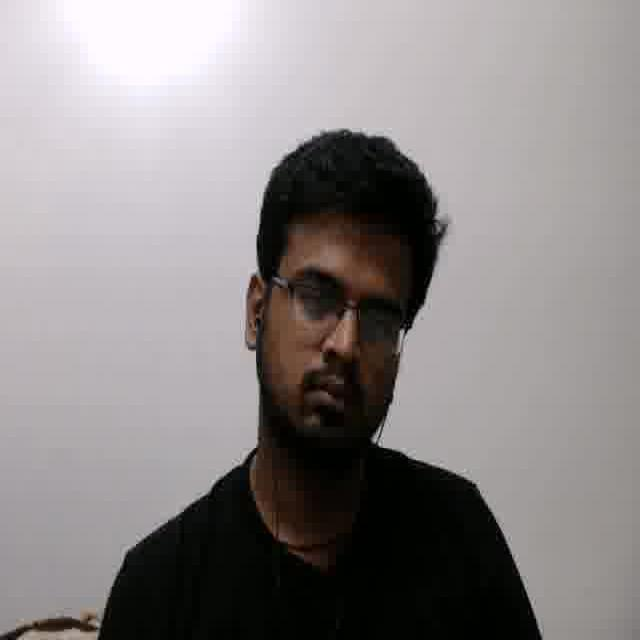Boredom: (266, 217, 396, 447)
